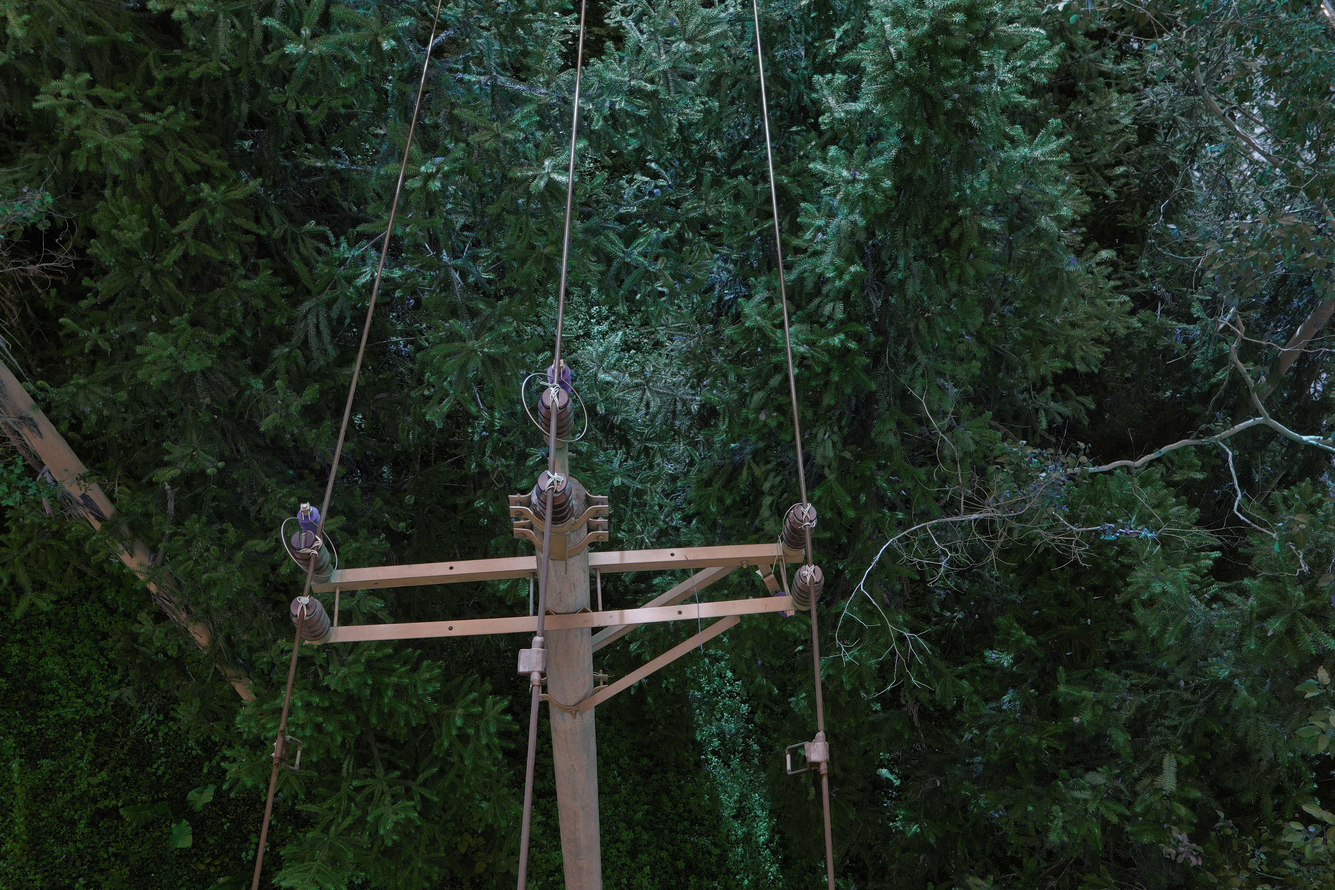severe_soiling_no_discharge_whole: (287, 530, 337, 586), (286, 594, 333, 648)
